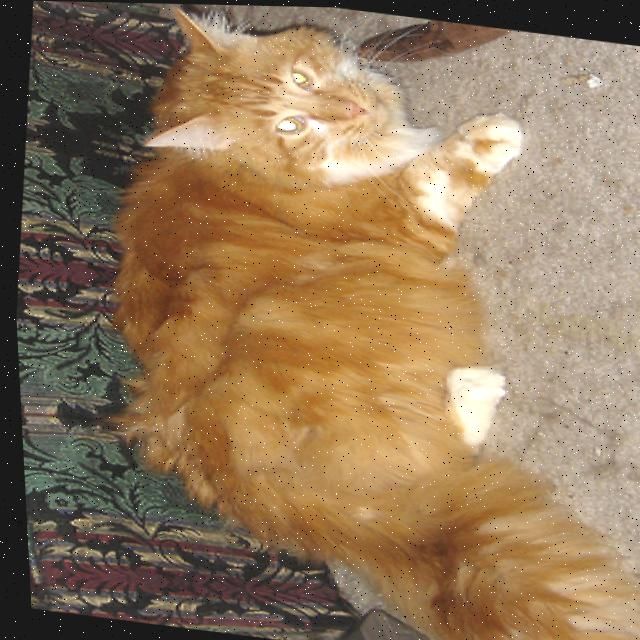Maine Coon: (73, 1, 640, 640)
